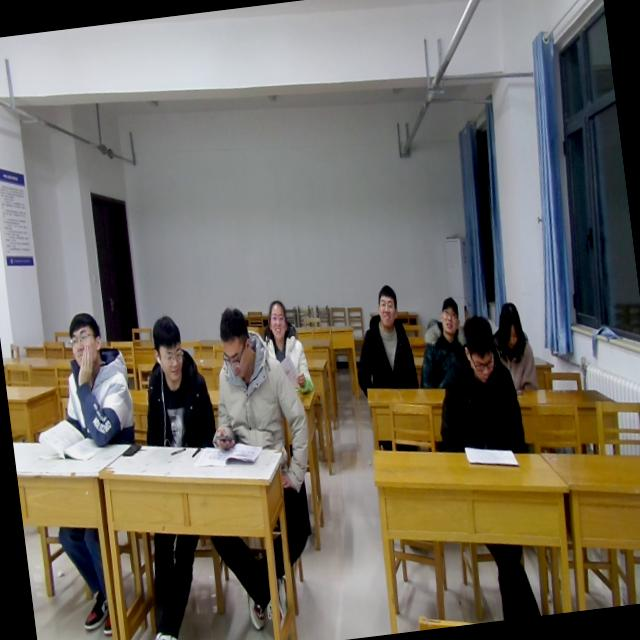down: (212, 302, 258, 383), (456, 310, 501, 387), (493, 294, 527, 356)
lookup: (62, 308, 105, 372), (370, 276, 402, 334), (432, 290, 464, 342), (262, 294, 291, 348)
sit: (196, 298, 310, 456), (426, 308, 528, 462), (130, 309, 219, 454), (51, 308, 138, 452), (346, 279, 420, 394), (411, 294, 476, 392), (258, 294, 316, 399), (488, 299, 539, 391)
